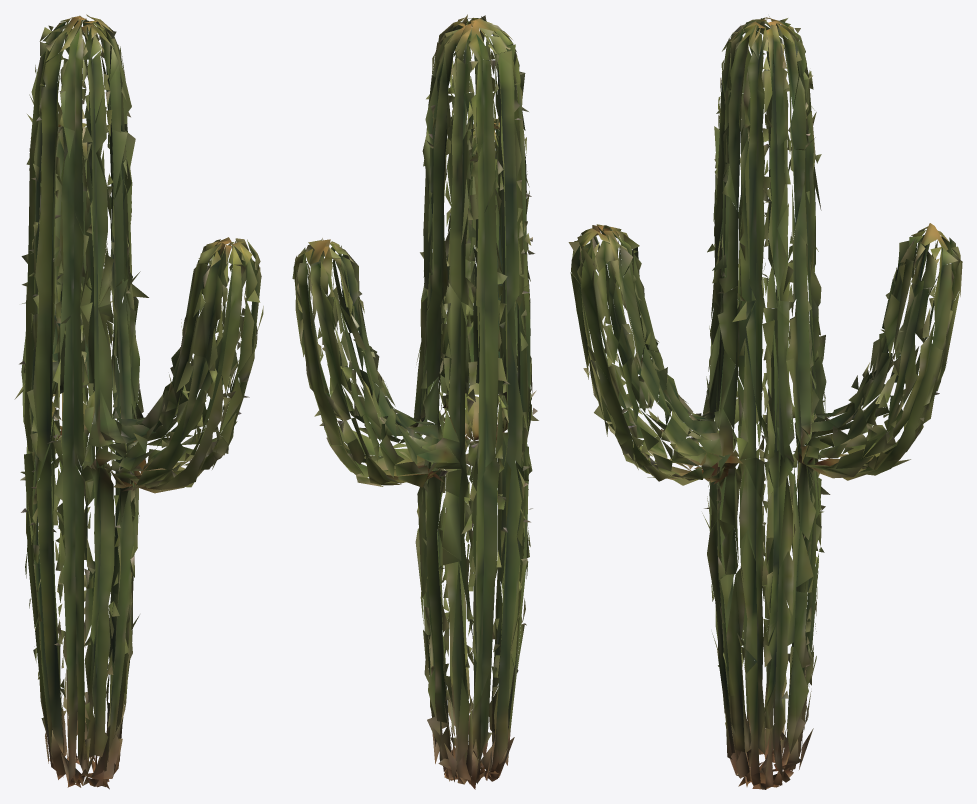
Rendered from saguaro.glb.
3 renders of one model, left to right at view 1: azimuth 30°, elevation 25°; view 2: azimuth 150°, elevation 25°; view 3: azimuth 270°, elevation 25°, orthographic.
Parts seen in each view (by area): view 1: LO.001; view 2: LO.001; view 3: LO.001.
Boxes of the visible parts, <box> form: LO.001: <box>14,14,263,789</box>; LO.001: <box>292,14,538,789</box>; LO.001: <box>568,16,962,789</box>.
Size of the model in its own units: 0.2127 by 0.9825 by 0.4604.
Materials: 1 (1 with a texture image).
